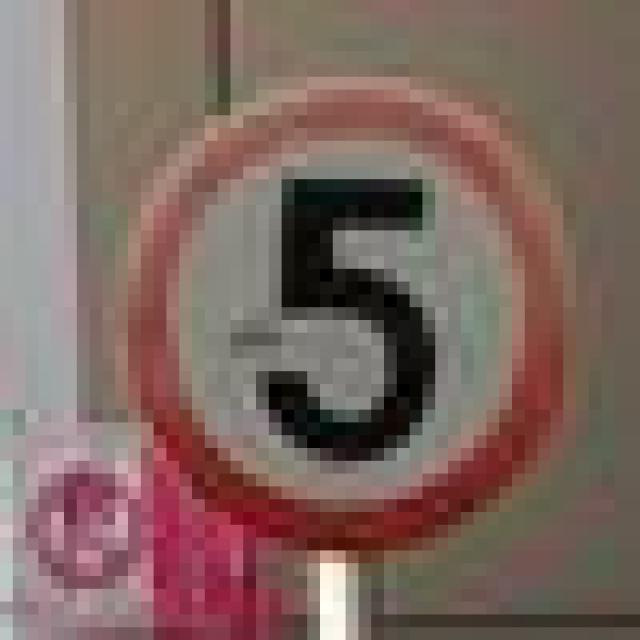SPEED_LIMIT_5: (122, 67, 578, 558)
